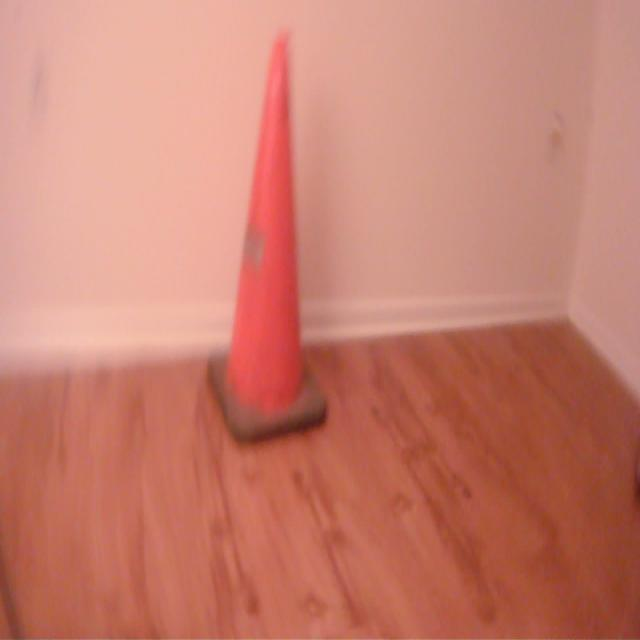traffic cone: (205, 30, 331, 448)
